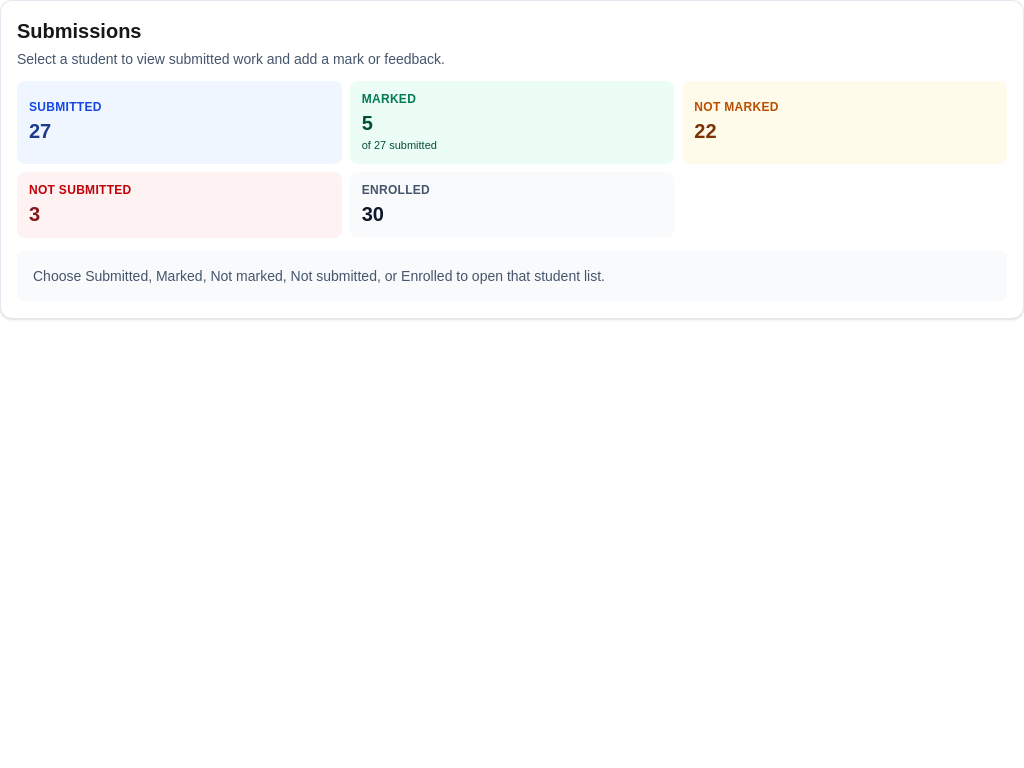
Test: assignment submission lists › can save a draft grade without releasing it to the student
Click the button "Not marked 22".
click(736, 107)  # box [682,81,1007,164]
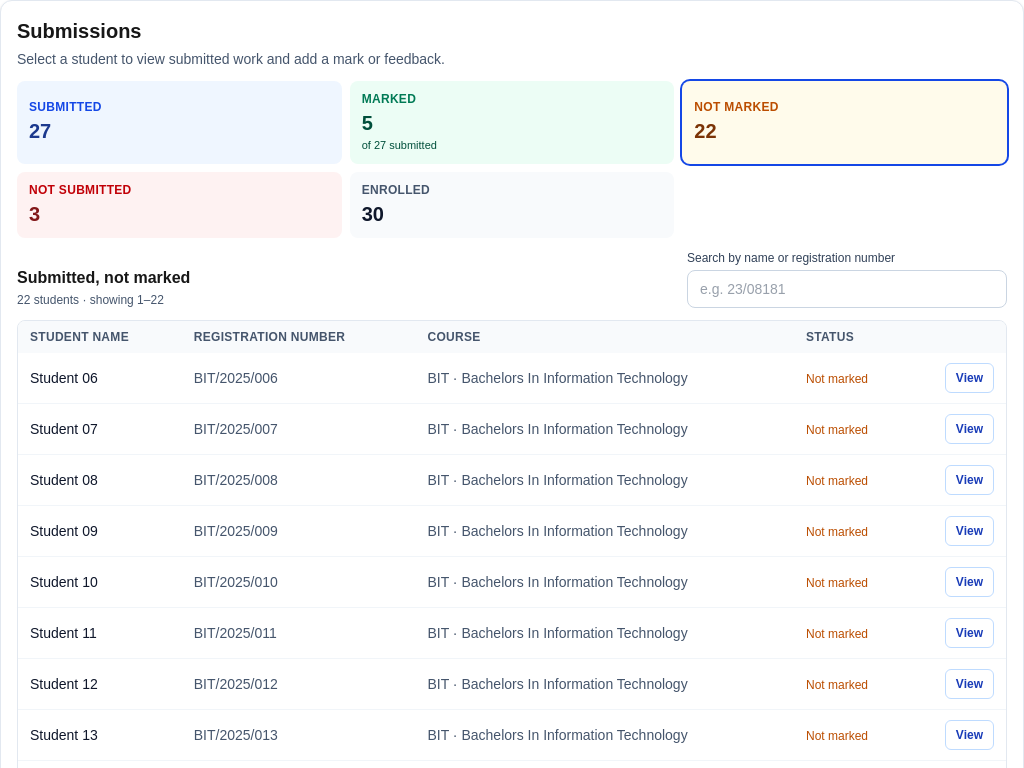
Click the button "View" in the row of "Student 06".
click(969, 378)  # box [945,362,994,392]
(page scrolled)
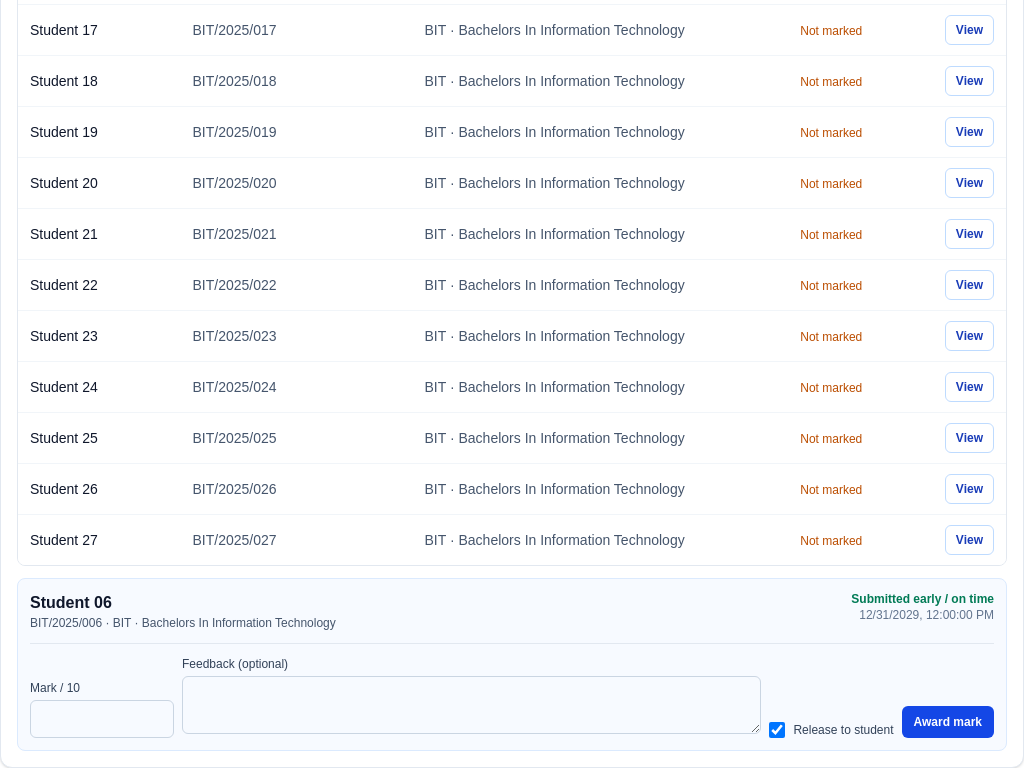
Type "7" into the number field labelled "Mark / 10".
click(102, 718); type("7")  # box [30,700,174,738]
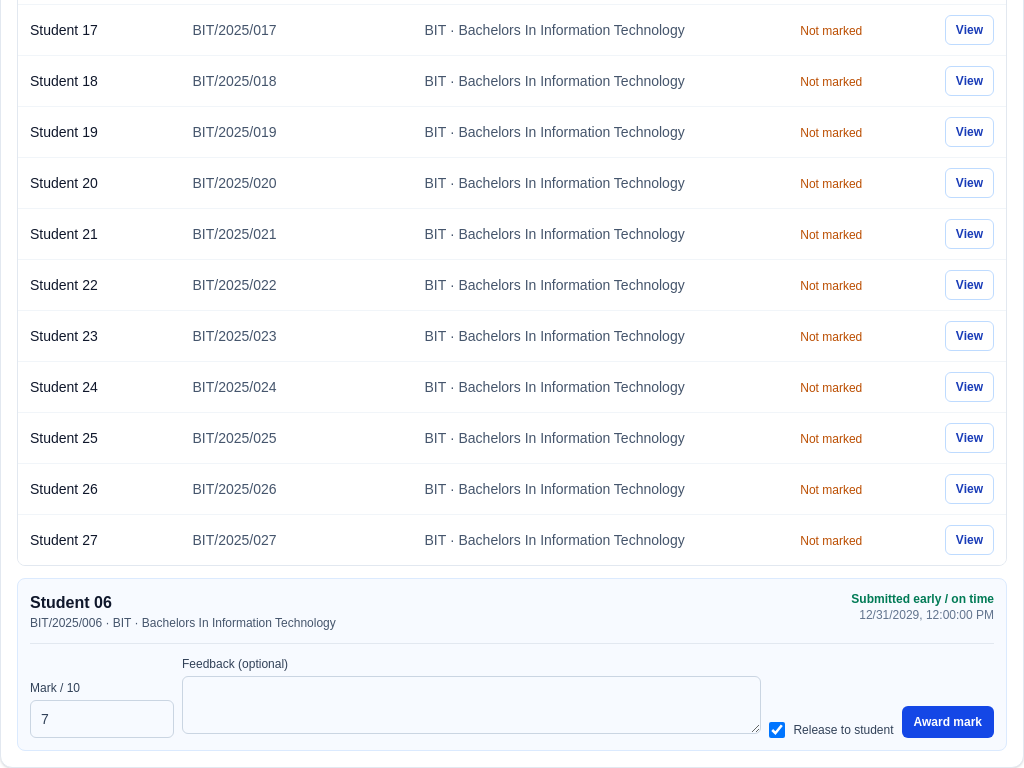
Click the checkbox labelled "Release to student".
click(777, 730)  # box [769,722,785,738]
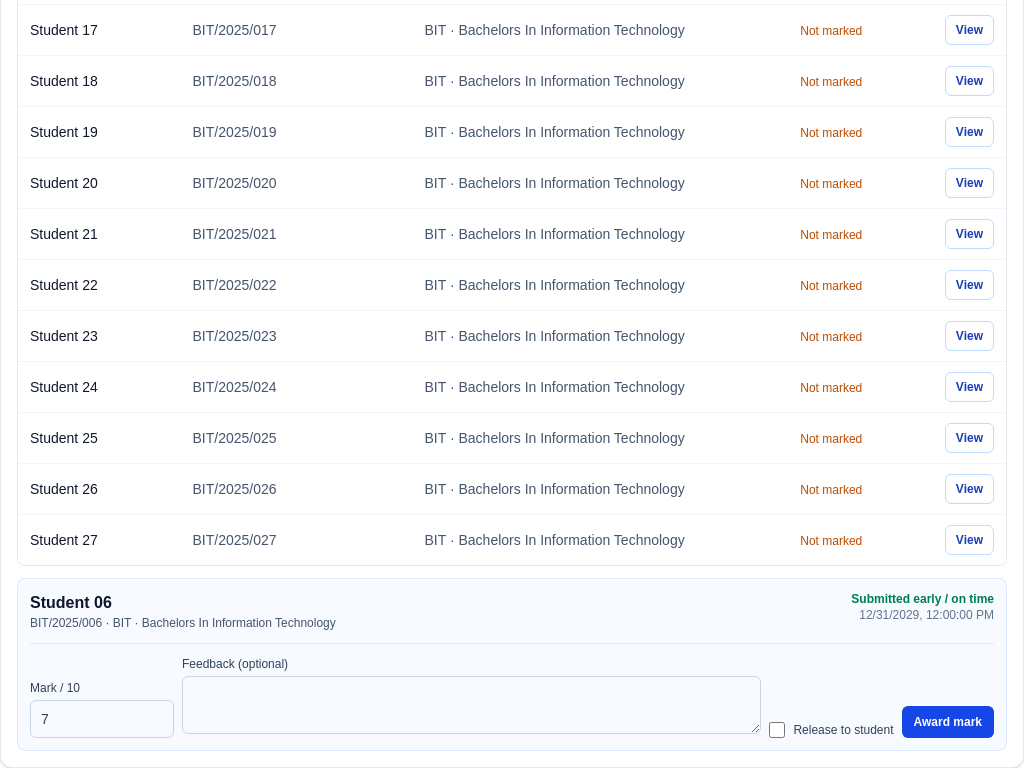
Click the button "Award mark".
click(948, 722)  # box [902,706,994,738]
(page scrolled)
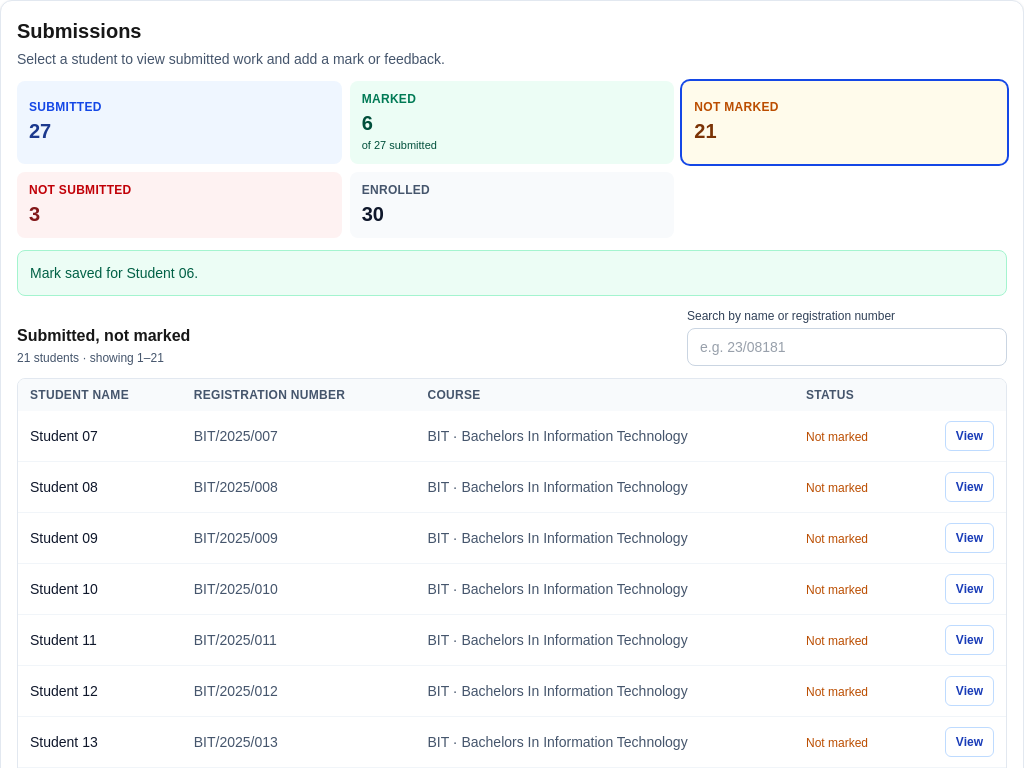
Click the button "Marked 6 of 27 submitted".
click(389, 99)  # box [350,81,674,164]
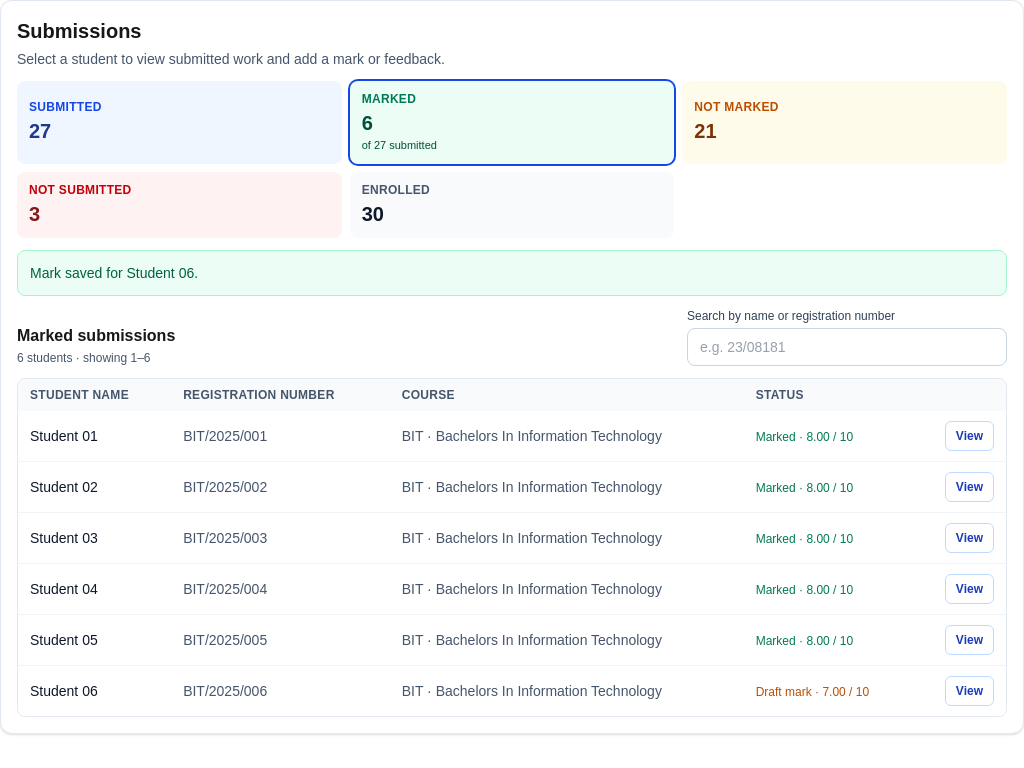
Expected: the text "Draft mark · 7.00 / 10" is shown, [756,684,869,698]
